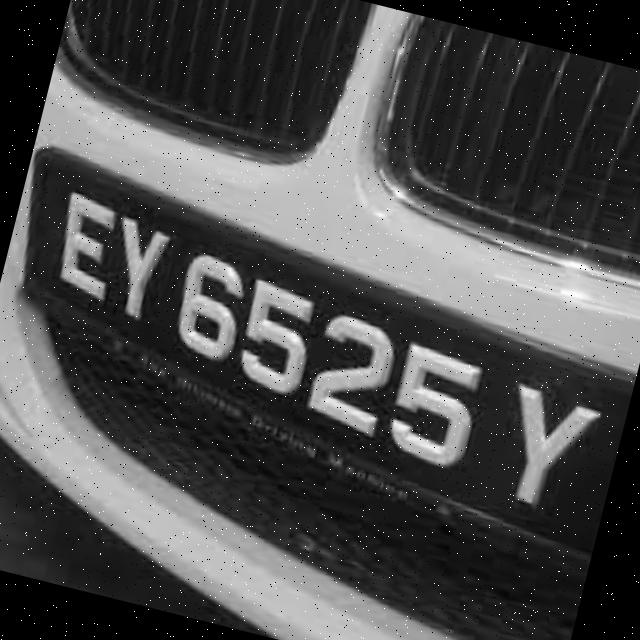License_Plate: (1, 136, 640, 592)
